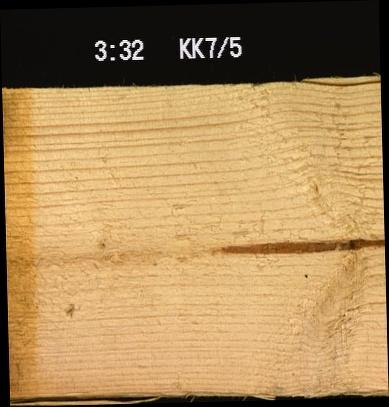small_knot: (296, 265, 315, 285), (98, 235, 110, 251)
split: (298, 78, 379, 89)
